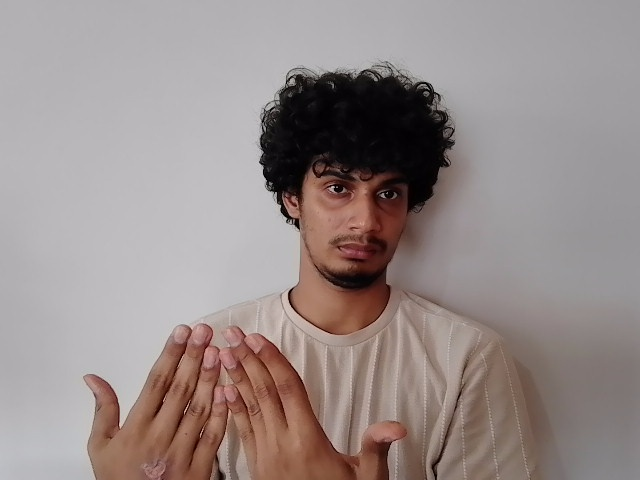thankyou: (77, 321, 428, 480)
